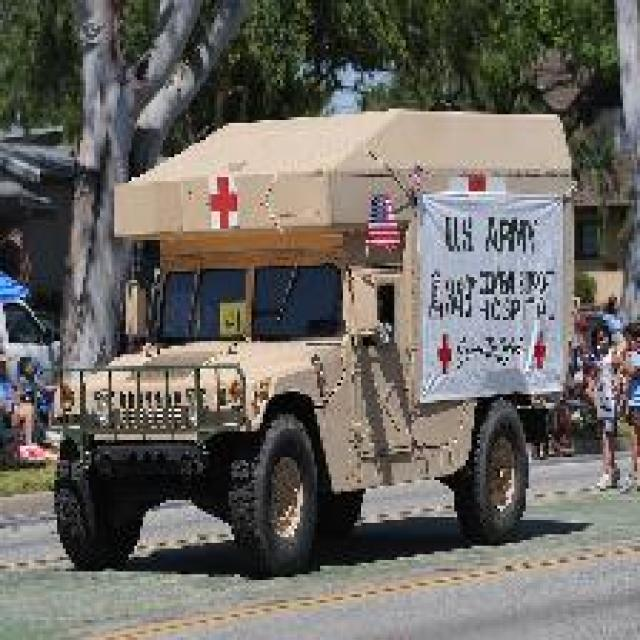Ad-signs: (414, 186, 566, 403)
Ambulance: (49, 103, 577, 574)
